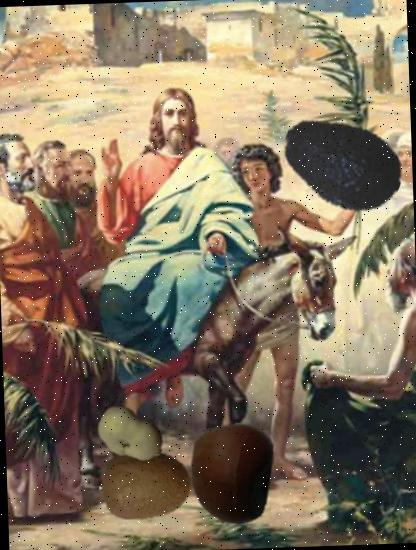Avocado: (278, 99, 407, 228)
Kiwi: (98, 438, 193, 533)
Nut: (180, 421, 284, 525)
Peach: (94, 399, 166, 471)
